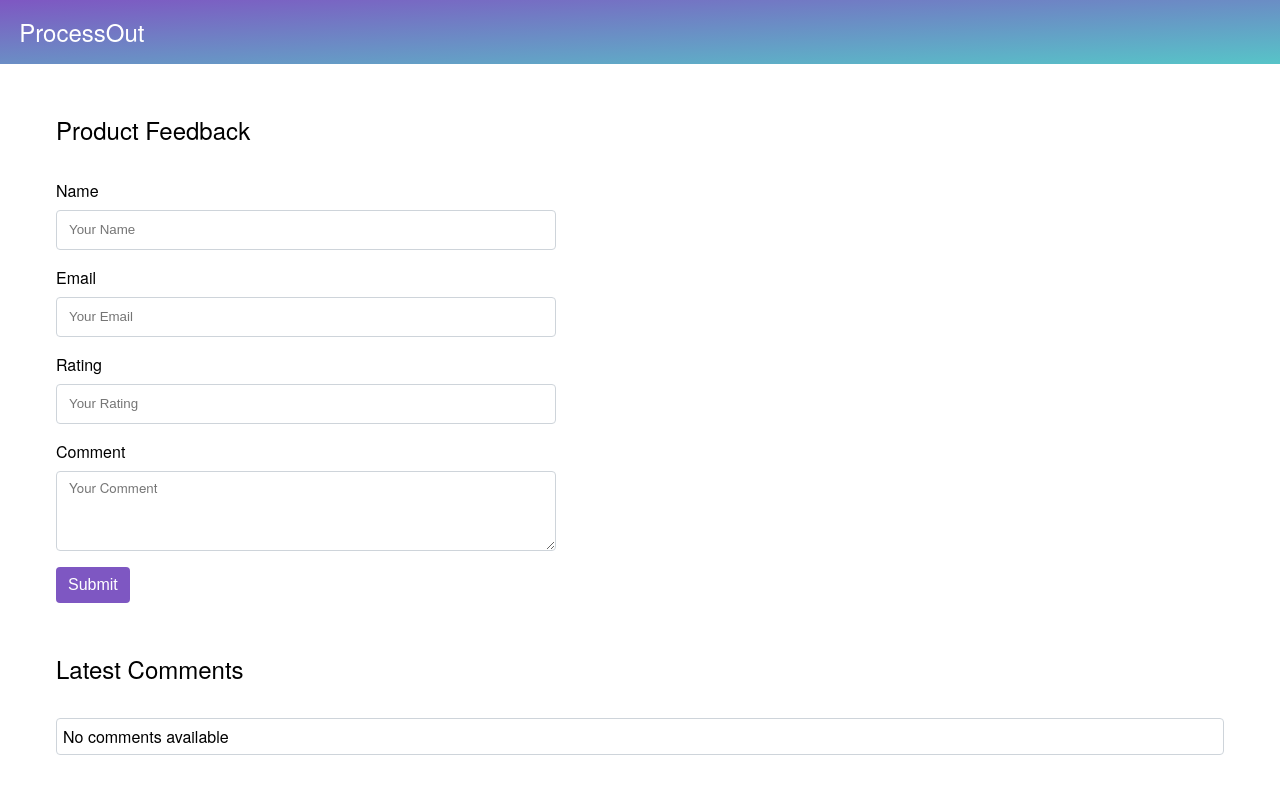
Test: Home Page › Should test feedback form submit
In the field with placeholder "Your Name": (306, 230) [56,210,556,250], type "Zam Abdul Vahid"
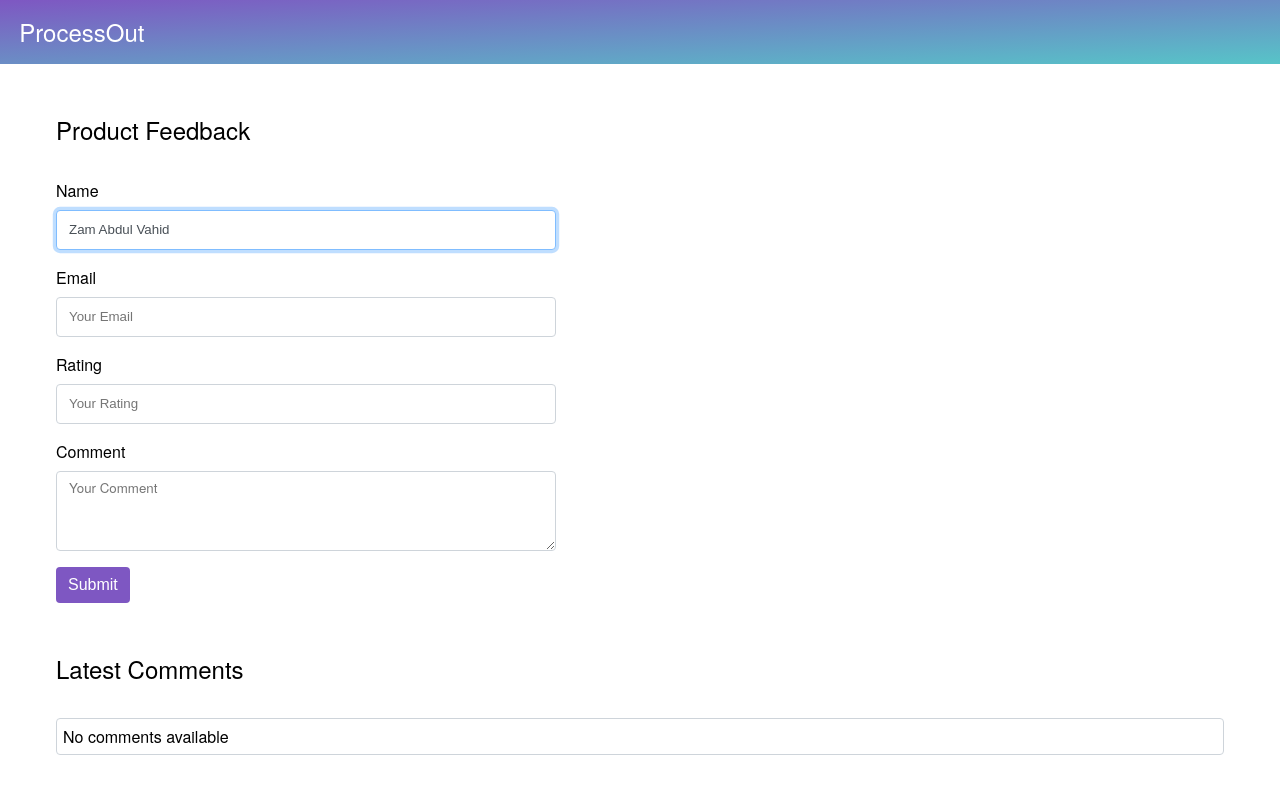
In the field with placeholder "Your Email": (306, 317) [56,297,556,337], type "mail2zam@gmail.com"
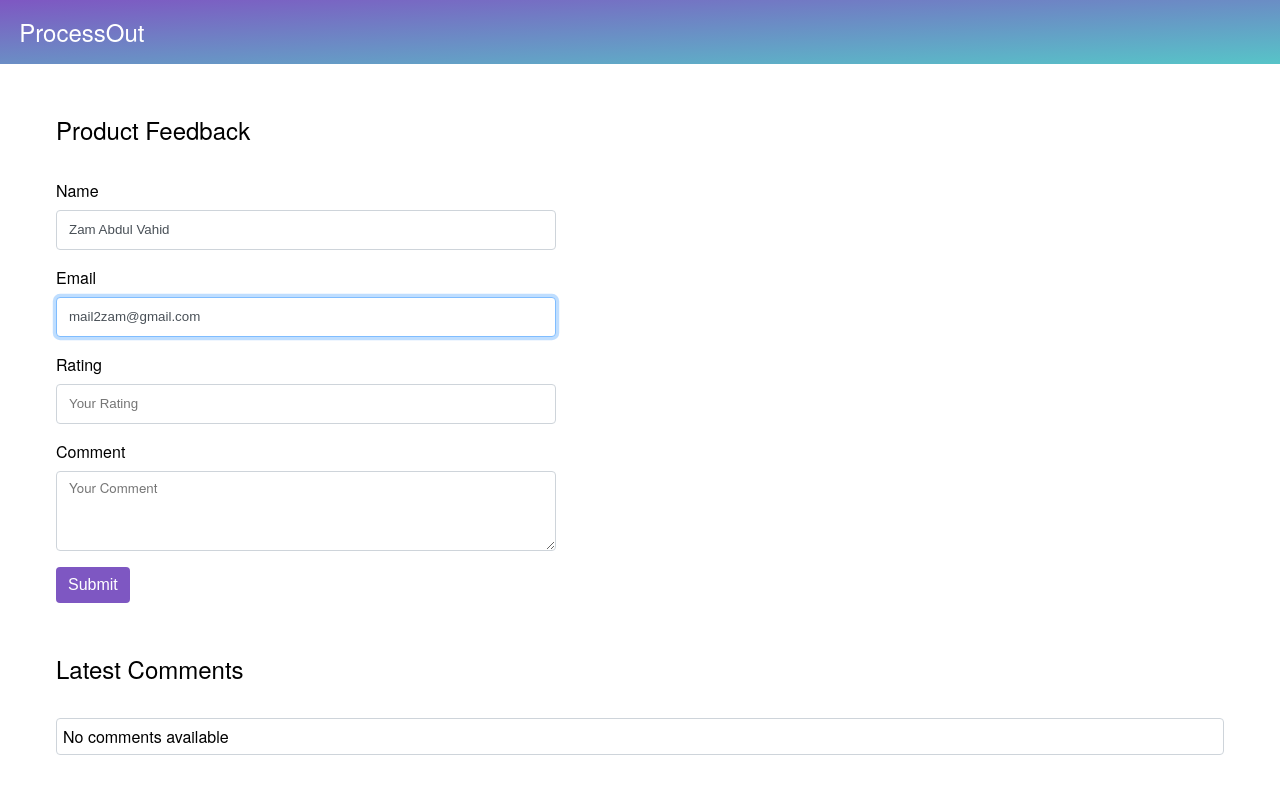
In the field with placeholder "Your Rating": (306, 404) [56,384,556,424], type "3"
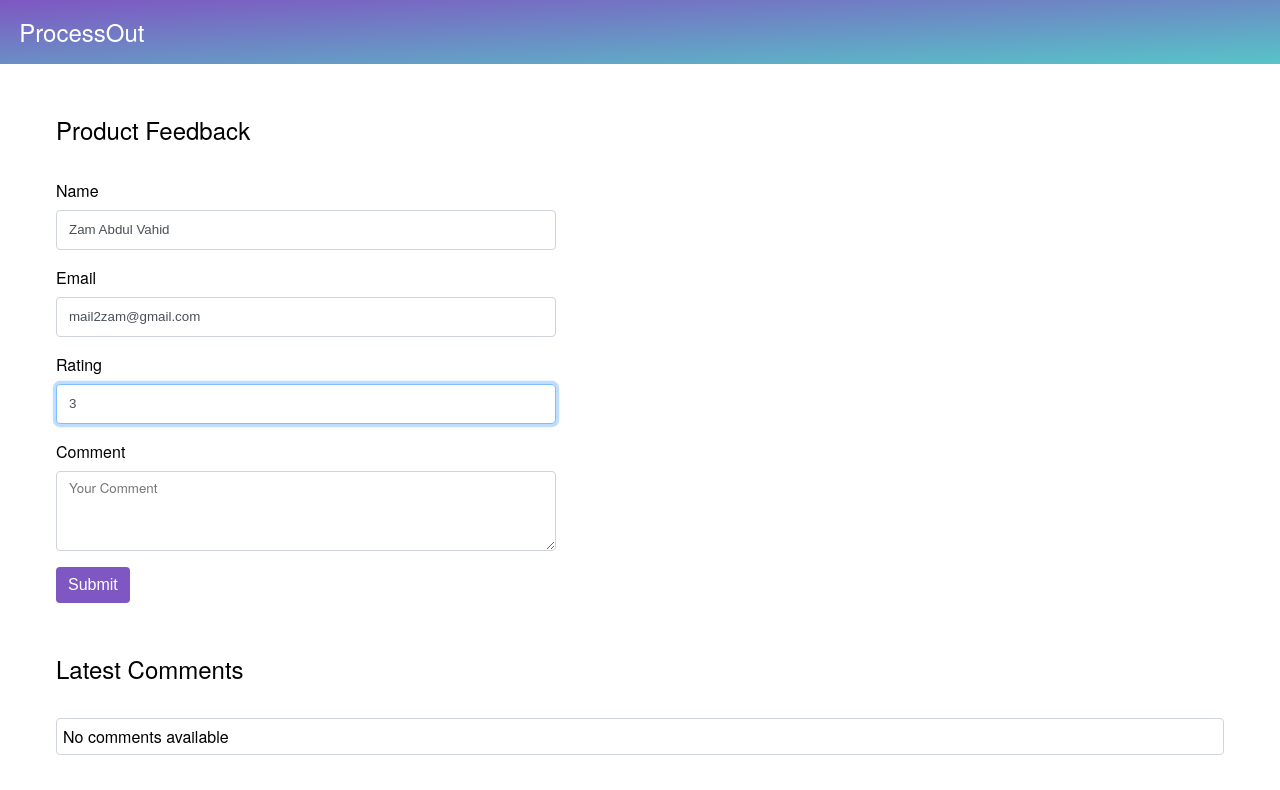
In the text box with placeholder "Your Comment": (306, 511) [56,471,556,551], type "This is my test comment"
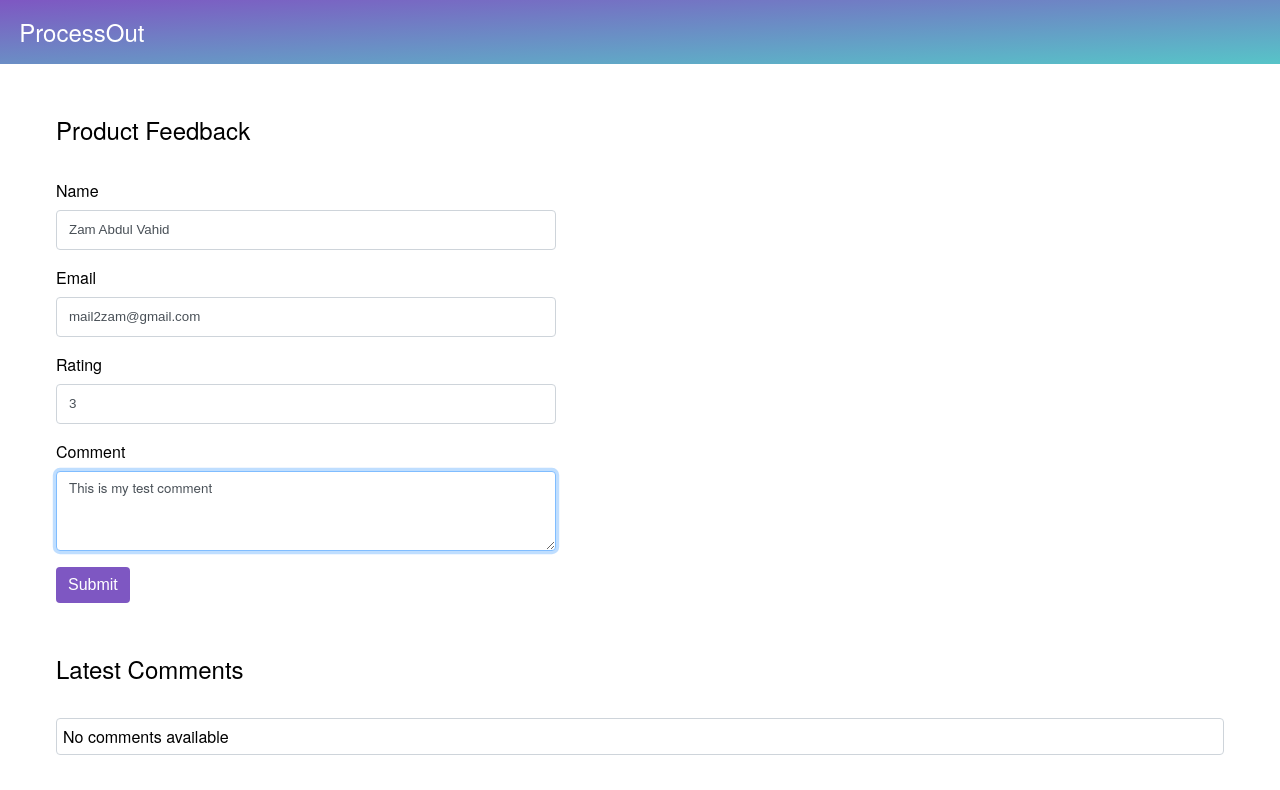
Click the button with id "btn-submit": (93, 585) [56,567,130,603]
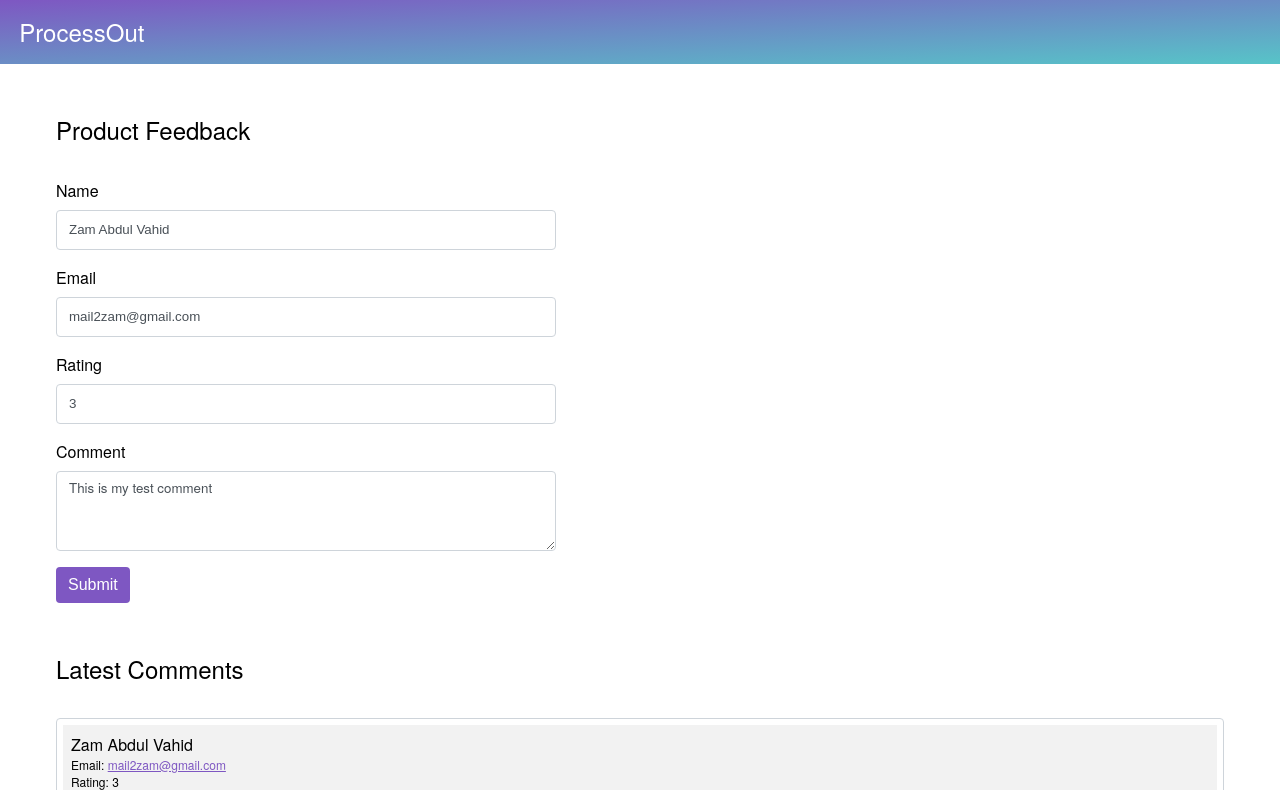
expect the heading "Zam Abdul Vahid" is shown: met, box [71,733,193,756]
